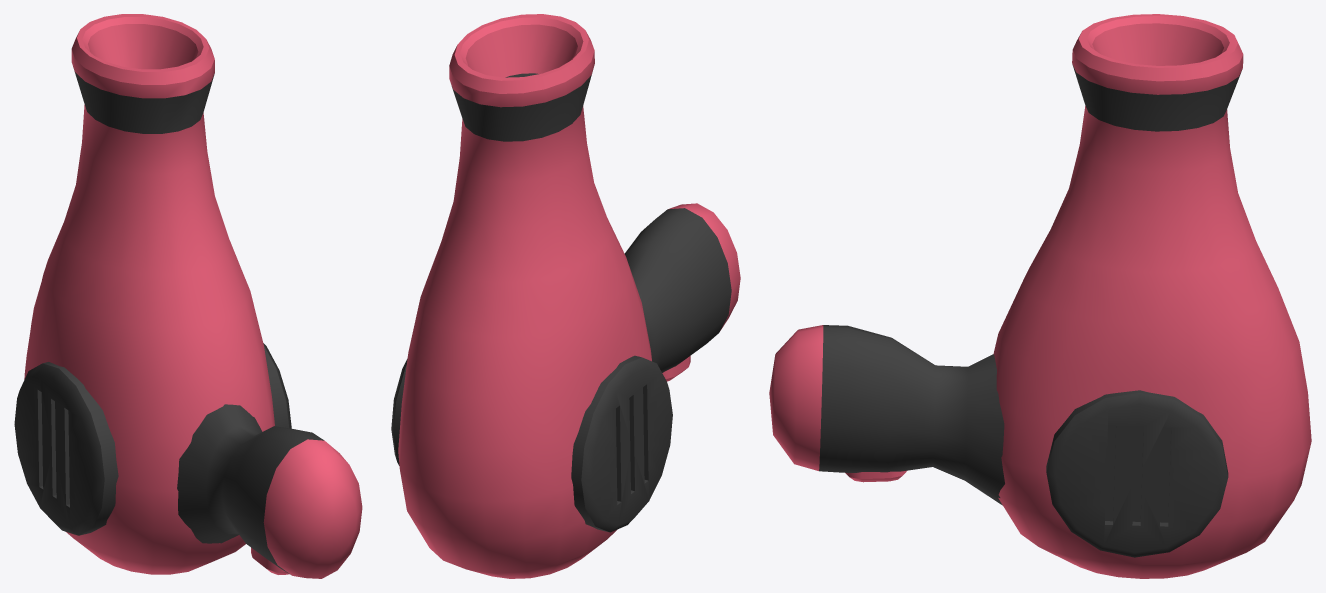
The model's file is hair_dryer.fbx.
The picture shows the model from 3 angles, left to right: view 1: azimuth 30°, elevation 25°; view 2: azimuth 150°, elevation 25°; view 3: azimuth 270°, elevation 25°; orthographic projection. The views are drawn at different scales.
Parts seen in each view (by area): view 1: hair_dryer4; view 2: hair_dryer4; view 3: hair_dryer4.
Boxes of the visible parts, x1,y1,x2,y2 form: hair_dryer4: (14,14,362,578); hair_dryer4: (391,14,740,578); hair_dryer4: (769,14,1311,578).
Size of the model in its own units: 118 by 291 by 271.
